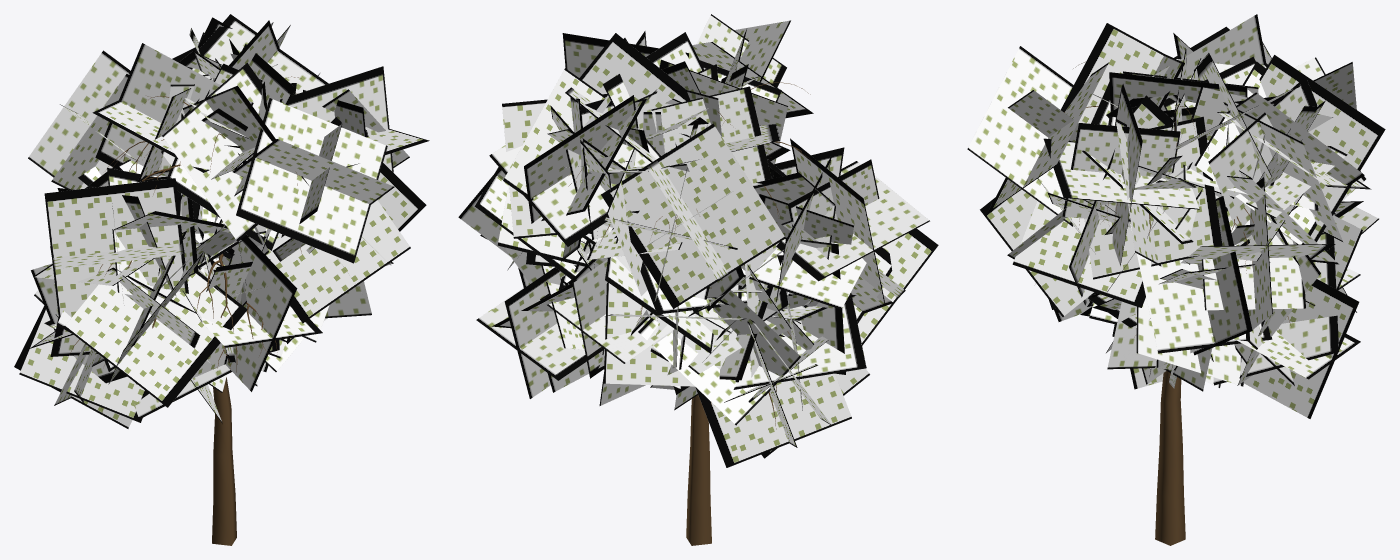
Rendered from trees 3.fbx.
The picture shows the model from 3 angles, left to right: view 1: azimuth 30°, elevation 25°; view 2: azimuth 150°, elevation 25°; view 3: azimuth 270°, elevation 25°; orthographic projection. The views are drawn at different scales.
Parts seen in each view (by area): view 1: tree 3; view 2: tree 3; view 3: tree 3.
Boxes of the visible parts, box(x1,y1,x2,y2) form: tree 3: box(14, 14, 429, 545); tree 3: box(458, 14, 938, 545); tree 3: box(967, 14, 1385, 545).
Bounding box in the file's own units: 738 × 904 × 660.
2 materials, 1 textured.
